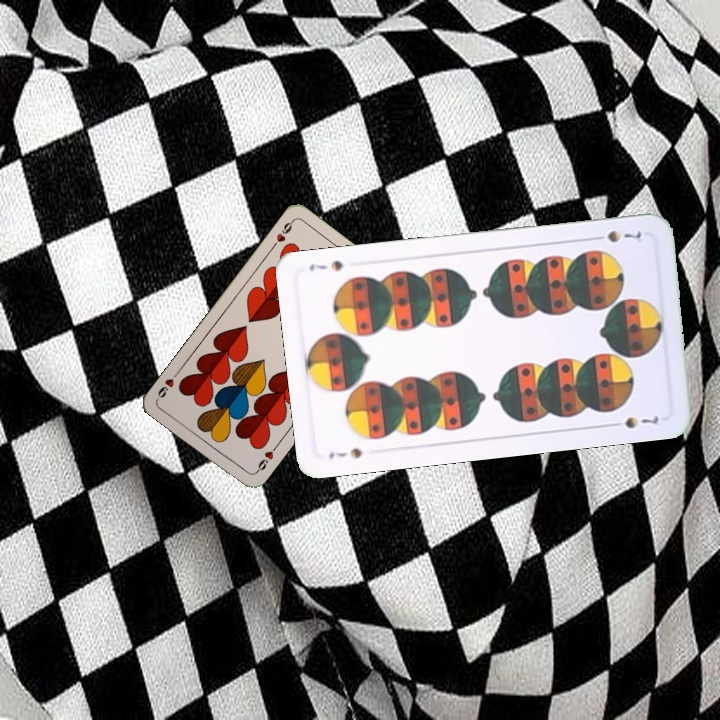H9: (268, 216, 296, 251), (252, 441, 280, 476)
S7: (588, 226, 644, 245), (325, 443, 365, 462)
